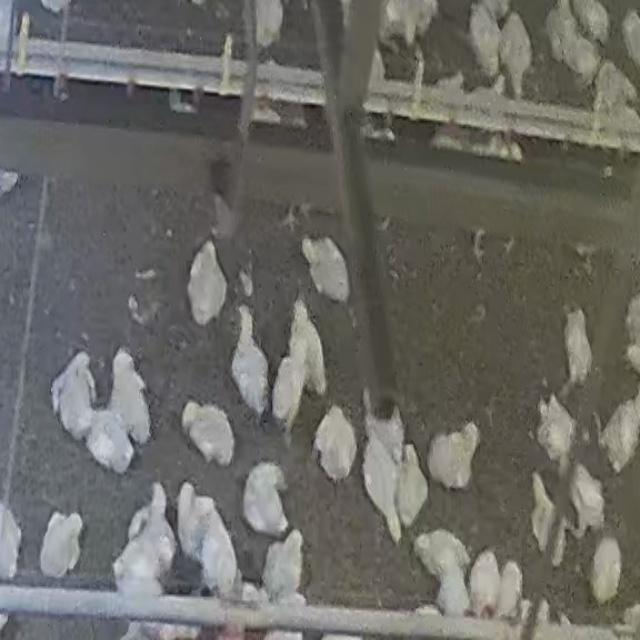chicken: (229, 302, 270, 420), (106, 348, 153, 449), (423, 417, 481, 491), (179, 398, 239, 467), (298, 233, 352, 309), (185, 238, 231, 326), (49, 350, 94, 438), (290, 300, 328, 401), (313, 404, 359, 484), (243, 459, 289, 538), (84, 408, 137, 476), (599, 391, 640, 476), (38, 507, 84, 581), (566, 458, 606, 538), (535, 393, 577, 469), (394, 444, 430, 532), (499, 10, 534, 97), (261, 529, 307, 593), (270, 354, 306, 435), (467, 548, 504, 620), (468, 2, 503, 78), (529, 472, 558, 559), (589, 533, 623, 606), (564, 306, 594, 388), (0, 498, 23, 576), (495, 559, 524, 620)
